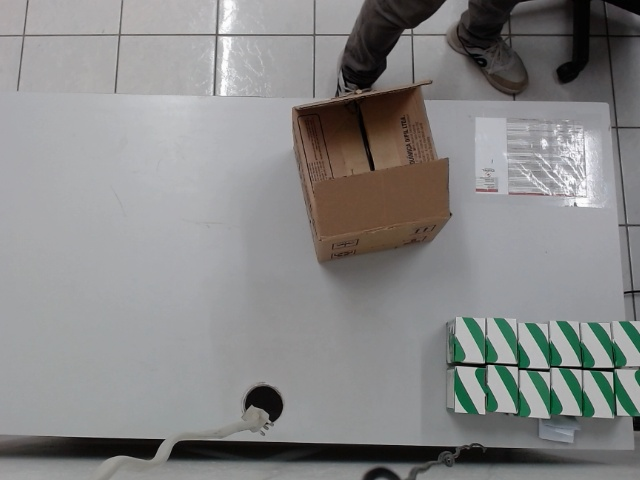caixa_principal: (281, 75, 464, 268)
